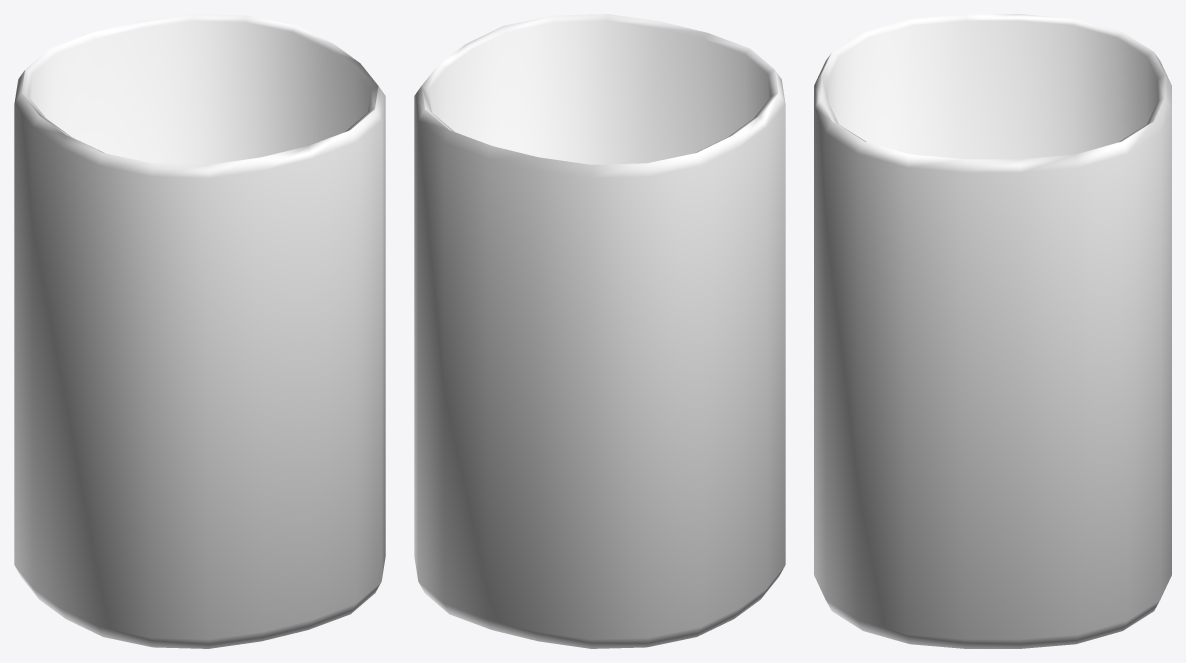
File: bin.fbx
3 views of the same model, side by side, from view 1: azimuth 30°, elevation 25°; view 2: azimuth 150°, elevation 25°; view 3: azimuth 270°, elevation 25° (orthographic).
Visible parts, largest first — view 1: trash_bin; view 2: trash_bin; view 3: trash_bin.
Boxes of the visible parts, box(x1,y1,x2,y2) form: trash_bin: box(14, 14, 385, 648); trash_bin: box(414, 14, 785, 648); trash_bin: box(814, 14, 1171, 648).
Bounding box in the file's own units: 65.4 × 99.73 × 65.4.
